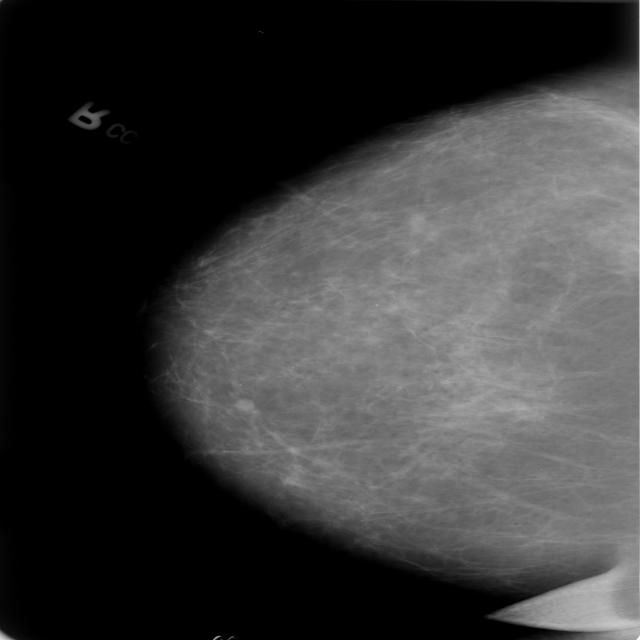normal: (140, 66, 640, 574)
